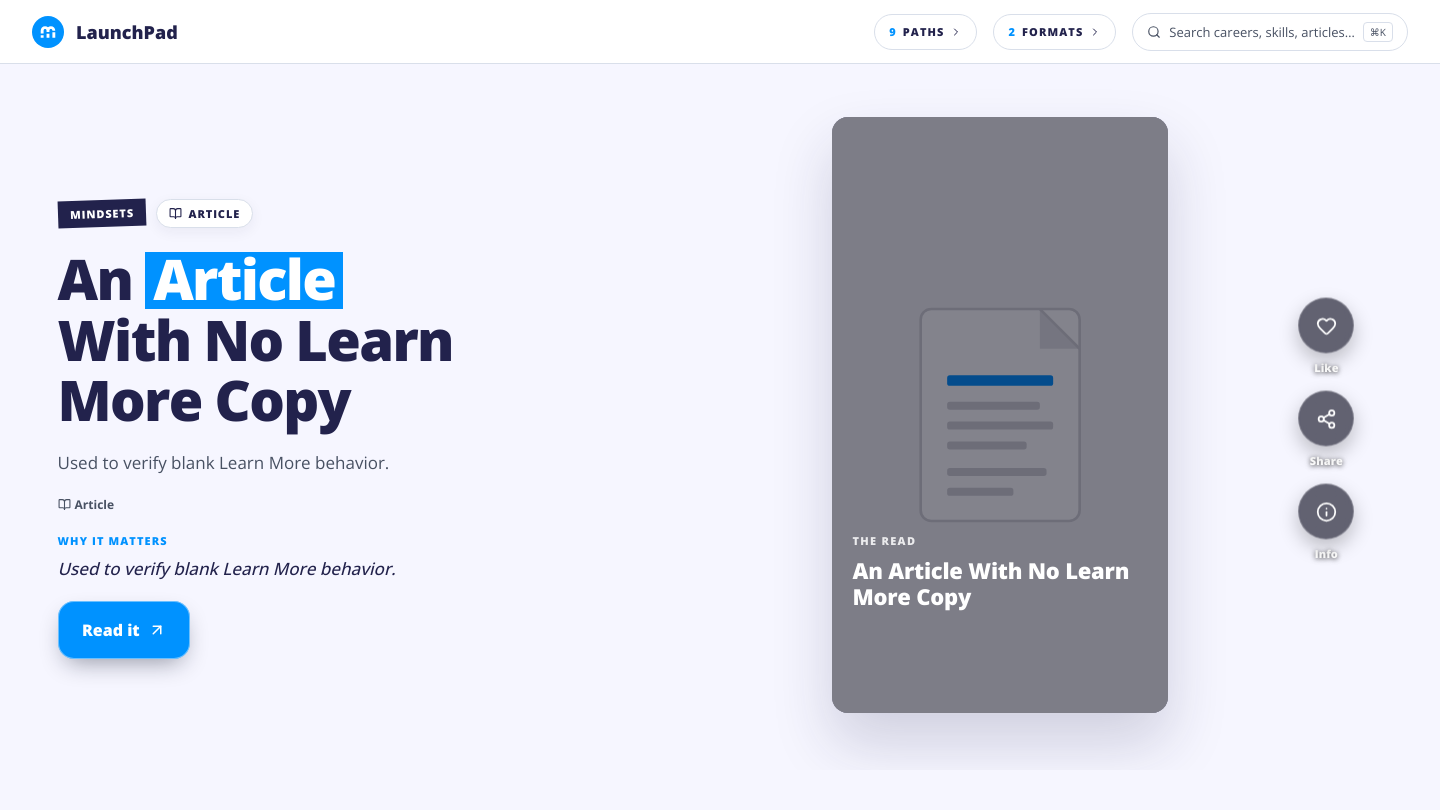
Test case: LaunchpadApp feed navigation › keeps Learn More entry points visible for rows without rich Learn More fields
Expected: the button "Info" is shown, [1298,484,1354,560]
What coordinates should you click on to do the following:
click the button with test id "learn-more-primary-cta"
I would click on:
 (123, 630)
Its box is [58,601,189,659].
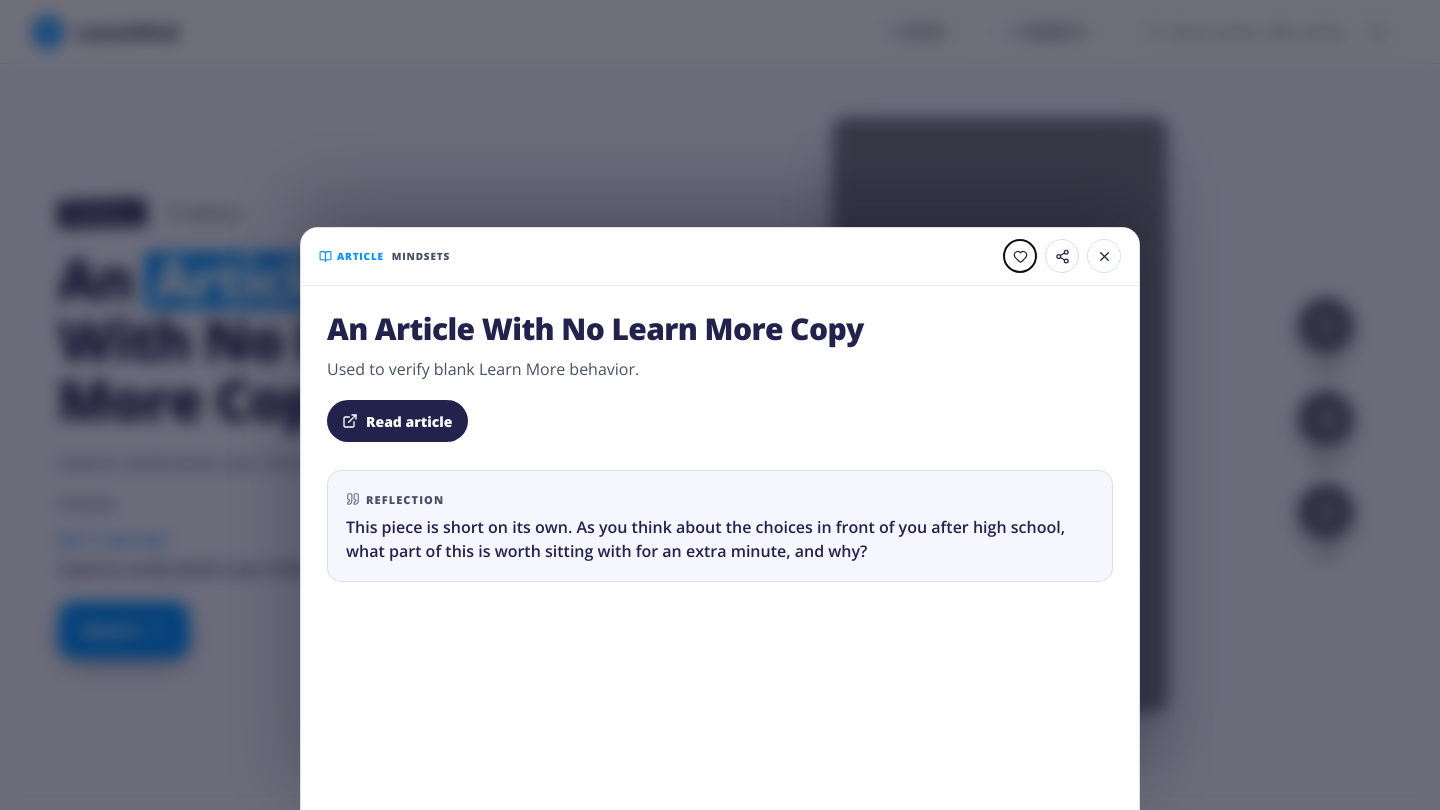
Expected: the dialog "Article With No Learn More Copy" is shown, [300,227,1140,809]
